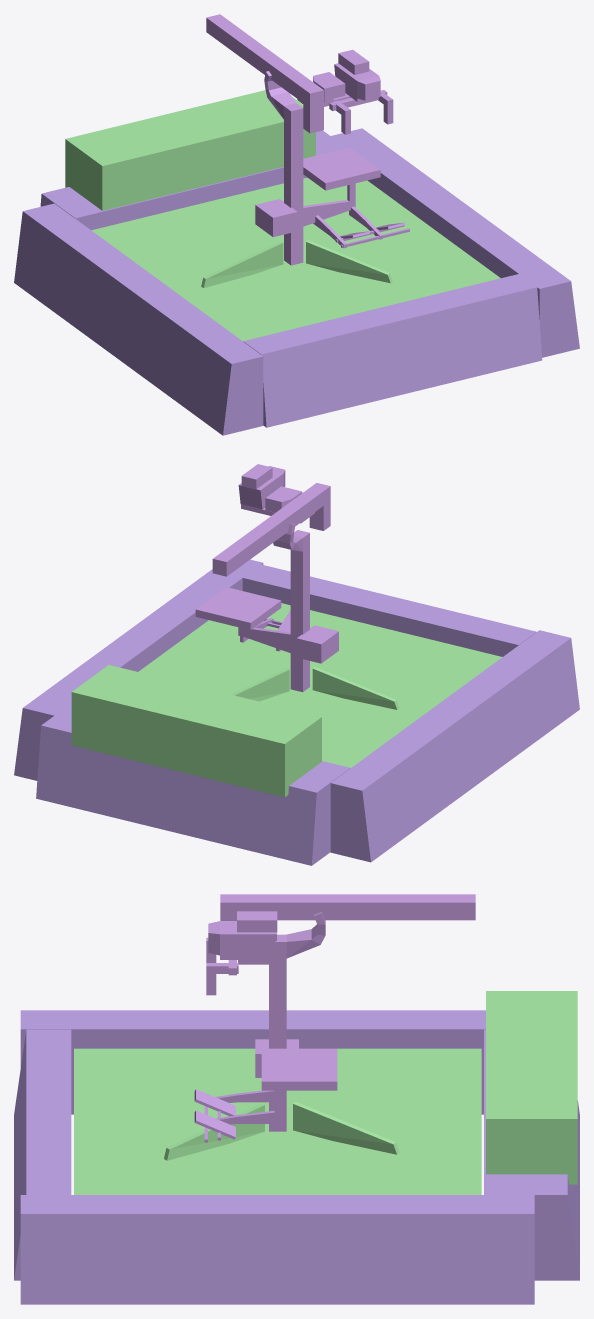
Rendered from stationary-mistral.glb.
3 renders of one model, top to bottom at view 1: azimuth 30°, elevation 25°; view 2: azimuth 150°, elevation 25°; view 3: azimuth 270°, elevation 25°, orthographic. The views are drawn at different scales.
Visible parts, largest first — view 1: CC_AA_Base, CC_AA_Seat_Base, CC_AA_Launcher; view 2: CC_AA_Base, CC_AA_Seat_Base, CC_AA_Launcher; view 3: CC_AA_Base, CC_AA_Launcher, CC_AA_Seat_Base.
Part boxes in pixels (left/top/right/bottom): CC_AA_Base: left=14, top=90, right=579, bottom=435; CC_AA_Seat_Base: left=255, top=71, right=409, bottom=265; CC_AA_Launcher: left=206, top=14, right=393, bottom=134; CC_AA_Base: left=14, top=559, right=579, bottom=865; CC_AA_Seat_Base: left=195, top=523, right=338, bottom=692; CC_AA_Launcher: left=212, top=464, right=330, bottom=576; CC_AA_Base: left=14, top=991, right=579, bottom=1304; CC_AA_Launcher: left=206, top=894, right=475, bottom=995; CC_AA_Seat_Base: left=194, top=912, right=337, bottom=1142.
Bounding box in the file's own units: 3.08 × 2.08 × 3.44.
